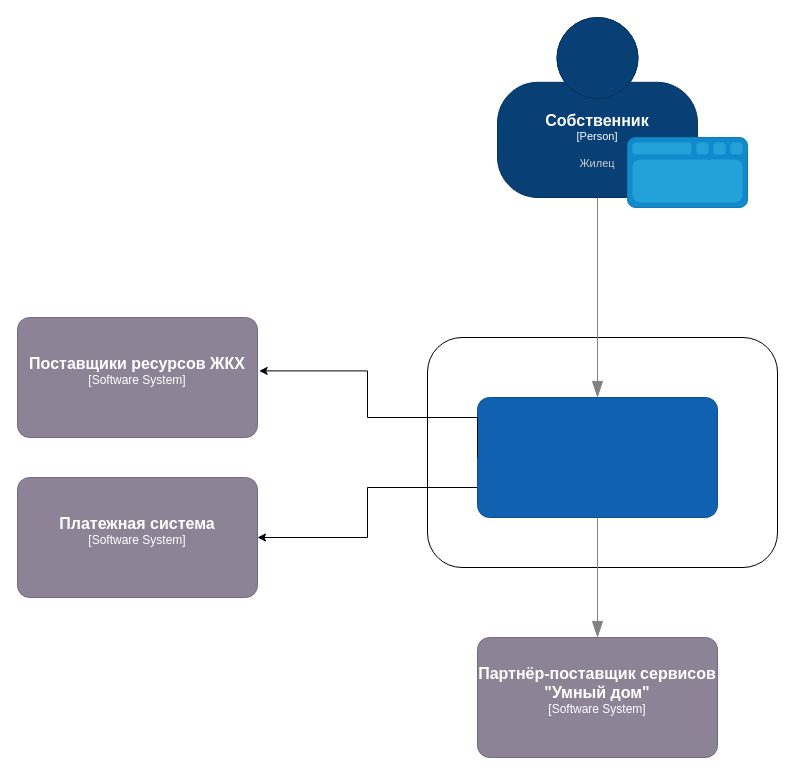
This 795x775 diagram has some shape labels left out. Each missing label, with the box of its shape:
Мобильное приложение [: ]: (626, 136, 748, 208)
Сервисы ЖКУ [Software System]: (476, 396, 718, 518)
